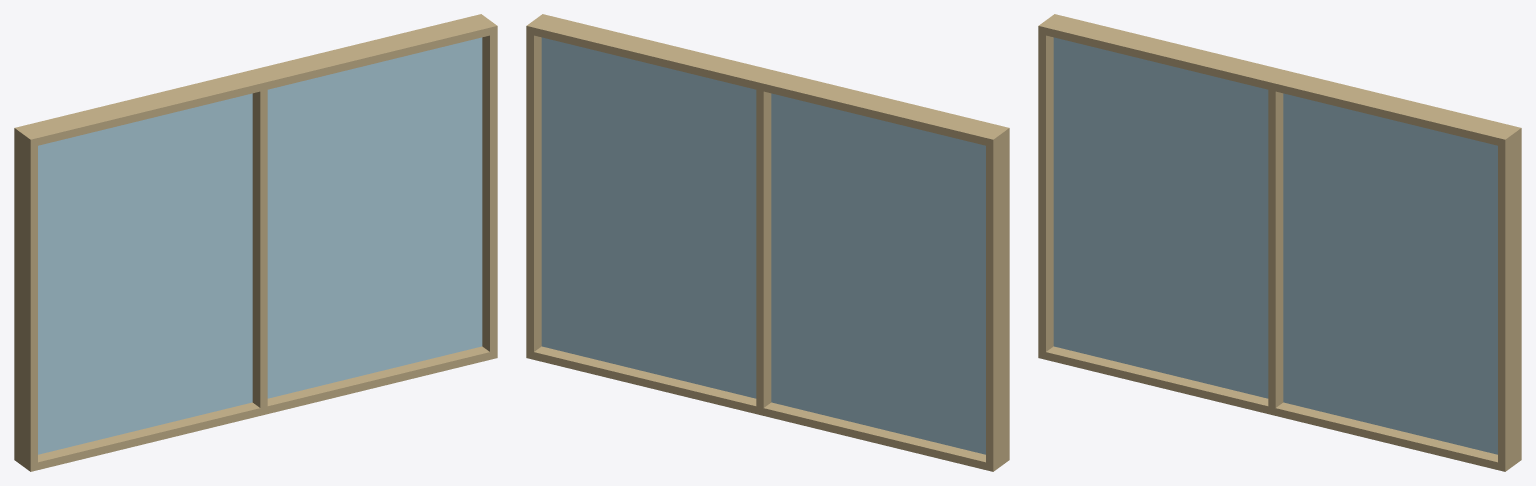
Rendered from janela_250x170.glb.
3 views of the same model, side by side, from view 1: azimuth 30°, elevation 25°; view 2: azimuth 150°, elevation 25°; view 3: azimuth 330°, elevation 25° (orthographic).
Parts seen in each view (by area): view 1: janela_250x170; view 2: janela_250x170; view 3: janela_250x170.
Part boxes in pixels (left/top/right/bottom): janela_250x170: left=14, top=14, right=497, bottom=471; janela_250x170: left=526, top=14, right=1009, bottom=471; janela_250x170: left=1038, top=14, right=1521, bottom=471.
Bounding box in the file's own units: 2.5 × 1.7 × 0.15.
